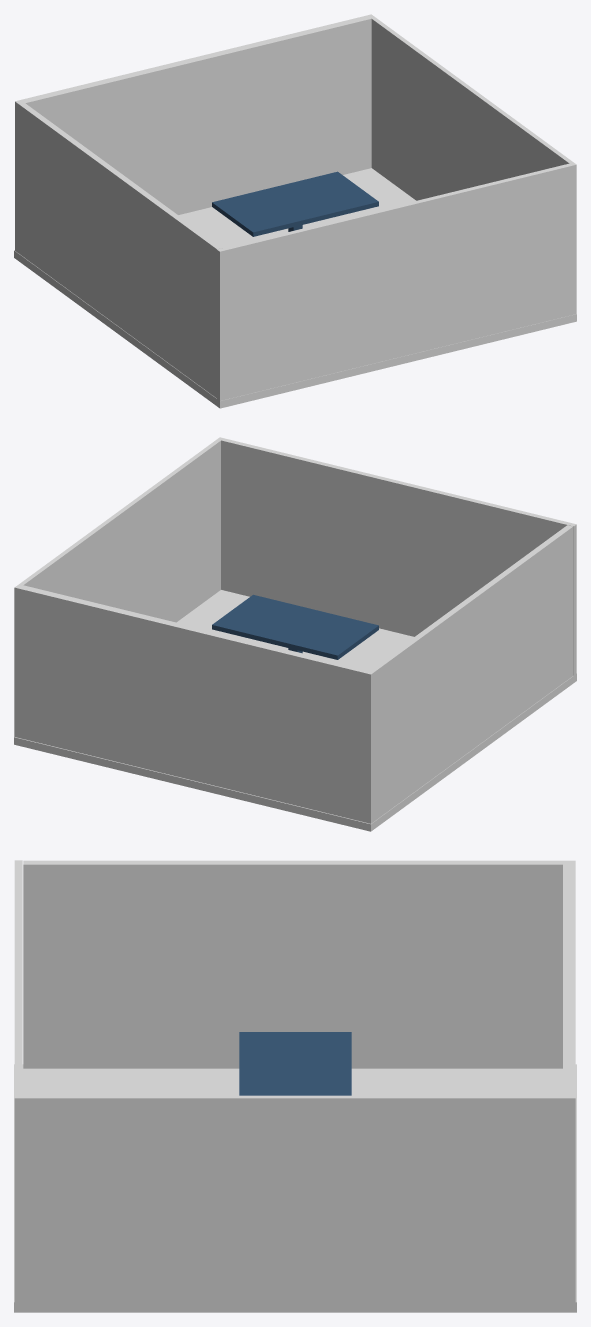
Rendered from environment.fbx.
3 views of the same model, one above another, from view 1: azimuth 30°, elevation 25°; view 2: azimuth 150°, elevation 25°; view 3: azimuth 270°, elevation 25° (orthographic). The views are drawn at different scales.
Visible parts, largest first — view 1: wall, floor, Plane.001; view 2: wall, floor, Plane.001; view 3: wall, floor, Plane.001.
Part boxes in pixels (x1=…): wall: x1=15, y1=14, x2=576, y2=400; floor: x1=14, y1=168, x2=576, y2=408; Plane.001: x1=212, y1=171, x2=378, y2=236; wall: x1=14, y1=437, x2=576, y2=823; floor: x1=14, y1=590, x2=576, y2=831; Plane.001: x1=212, y1=594, x2=378, y2=659; wall: x1=14, y1=860, x2=575, y2=1302; floor: x1=14, y1=1064, x2=576, y2=1312; Plane.001: x1=239, y1=1032, x2=351, y2=1095.
Size of the model in its own units: 1000 by 1000 by 420.
